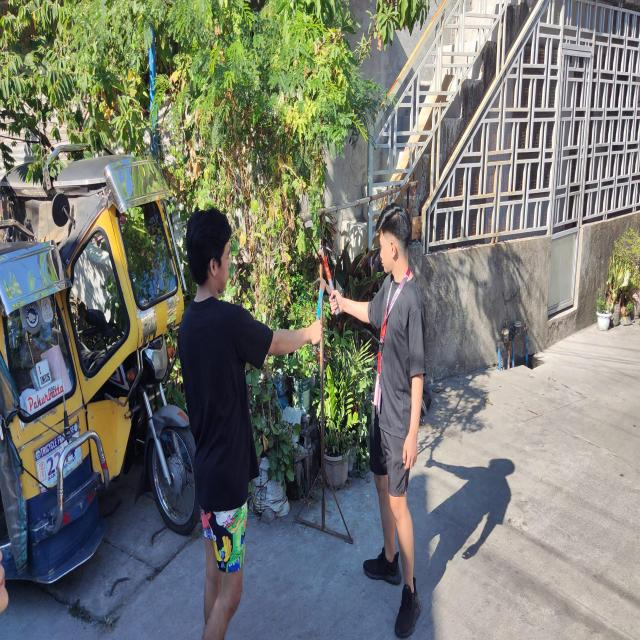hammer: (314, 246, 340, 316), (312, 276, 331, 356)
